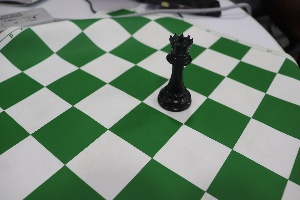black_queen: (157, 19, 194, 117)
